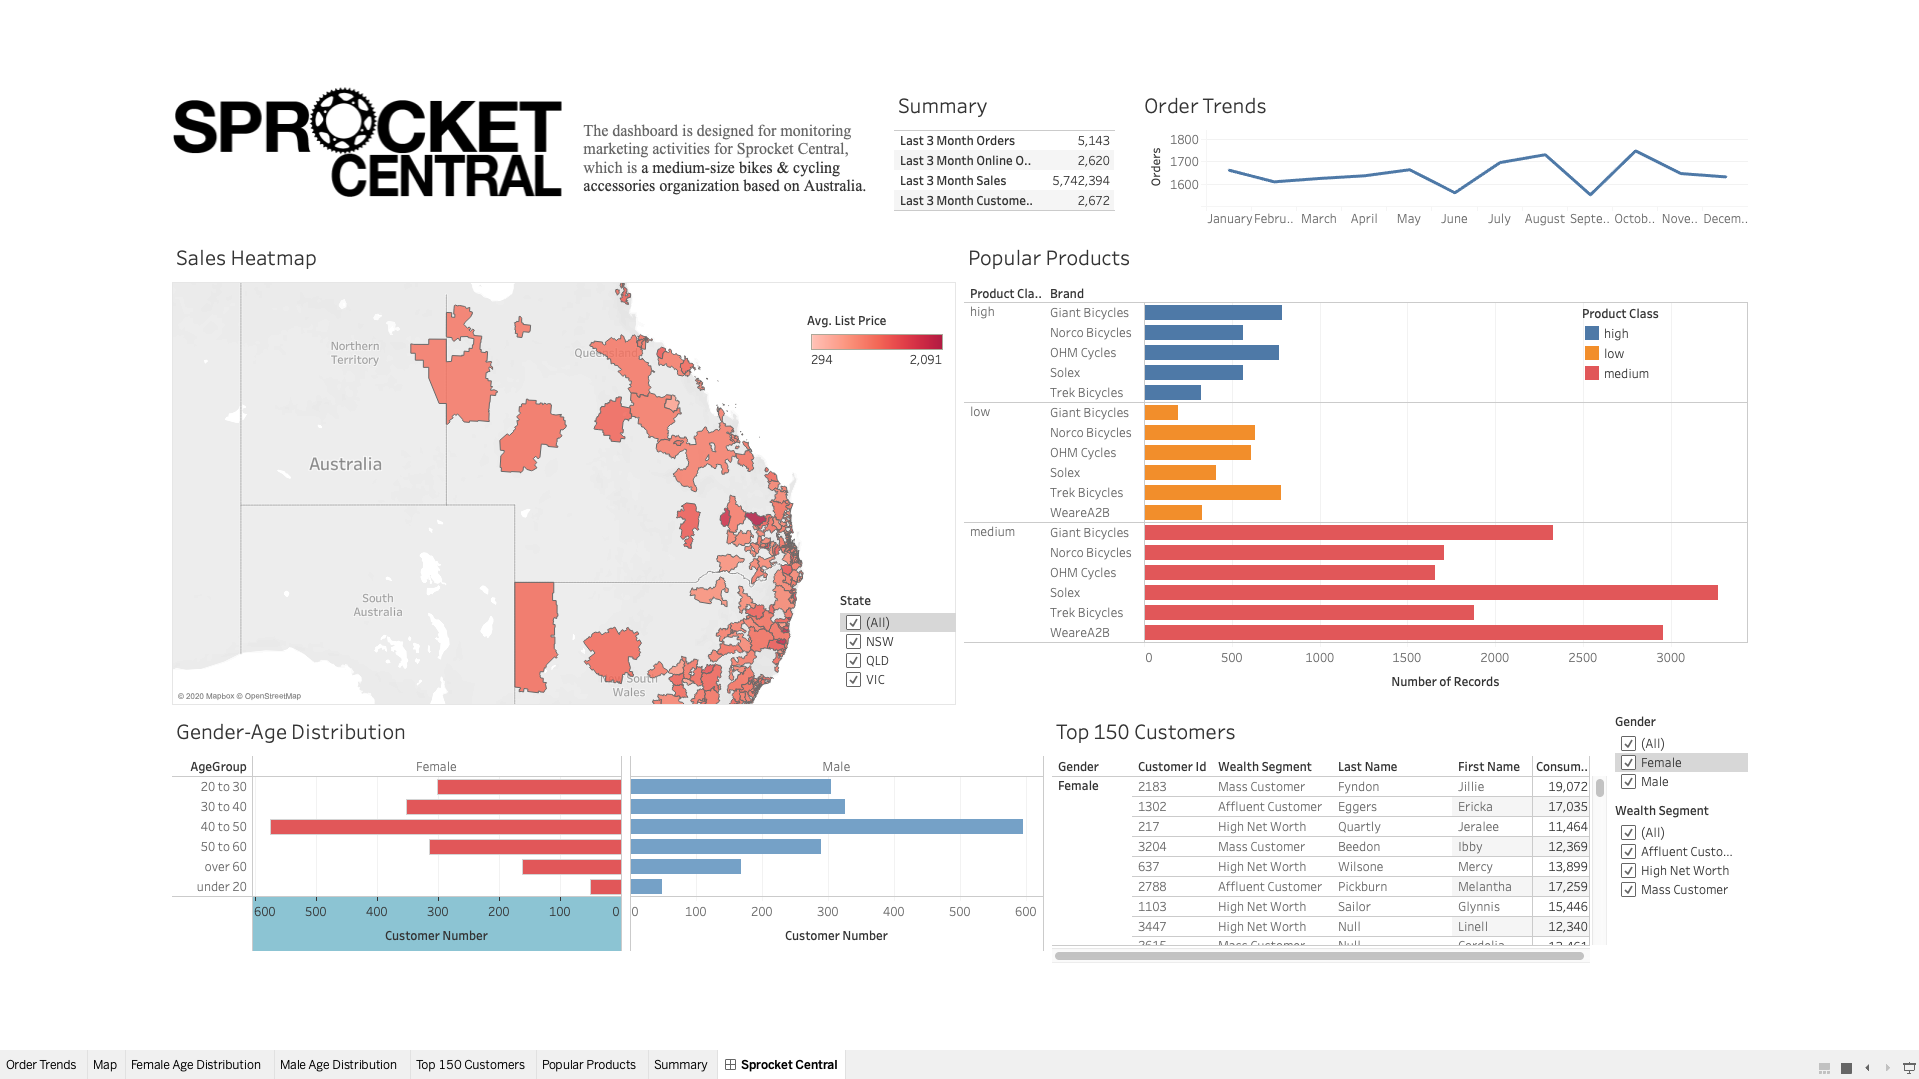

This screenshot's page, from the dashboard's own definition file:
{"tool":"tableau","page":{"name":"Sprocket Central","canvas":[1600,900],"ordinal":0},"visuals":[{"type":"worksheet","box":[0,0,1600,900]},{"type":"worksheet","param":"/Users/henanli/Desktop/KPMG_Project/Task3/sprocket_central_logo.png","box":[8,8,409,152]},{"type":"worksheet","box":[417,8,312.5,152]},{"type":"worksheet","title":"Summary","mark":"Automatic","box":[729.5,8,246.5,152]},{"type":"worksheet","title":"Order Trends","mark":"Automatic","rows":["Number of Records"],"cols":["transaction_date"],"box":[976,8,616,152]},{"type":"worksheet","param":"horz","box":[8,160,1584,732]},{"type":"worksheet","param":"horz","box":[8,160,1584,732]},{"type":"worksheet","param":"vert","box":[8,160,1584,732]},{"type":"worksheet","box":[8,160,1584,732]},{"type":"worksheet","title":"Map","mark":"Automatic","box":[8,160,792,474]},{"type":"worksheet","title":"Popular Products","mark":"Automatic","rows":["product_class","brand"],"cols":["Number of Records"],"box":[800,160,792,474]},{"type":"worksheet","title":"Popular Products","mark":"Automatic","rows":["product_class","brand"],"cols":["Number of Records"],"param":"[sqlproxy.052phnl0tmyywa1c4h66d16iv8km].[none:product_class:nk]","box":[1422,230,164,91]},{"type":"worksheet","title":"Map","mark":"Automatic","param":"[sqlproxy.052phnl0tmyywa1c4h66d16iv8km].[avg:list_price:qk]","box":[647,237,140,67]},{"type":"worksheet","title":"Map","mark":"Automatic","param":"[sqlproxy.052phnl0tmyywa1c4h66d16iv8km].[none:state:nk]","box":[680,517,116,108]},{"type":"worksheet","param":"horz","box":[8,634,458,258]},{"type":"worksheet","param":"horz","box":[8,634,458,258]},{"type":"worksheet","param":"horz","box":[8,634,458,258]},{"type":"worksheet","box":[8,634,458,258]},{"type":"worksheet","title":"Female Age Distribution","mark":"Automatic","rows":["age_group"],"cols":["gender","customer_id"],"box":[8,634,458,258]},{"type":"worksheet","title":"Male Age Distribution","mark":"Automatic","rows":["age_group"],"cols":["gender","customer_id"],"box":[466,634,422,258]},{"type":"worksheet","title":"Top 150 Customers","mark":"Text","rows":["gender","customer_id","wealth_segment","last_name","first_name"],"box":[888,634,563.2,258]},{"type":"worksheet","param":"vert","box":[1451.2,634,140.8,258]},{"type":"worksheet","title":"Top 150 Customers","mark":"Text","rows":["gender","customer_id","wealth_segment","last_name","first_name"],"param":"[sqlproxy.052phnl0tmyywa1c4h66d16iv8km].[none:gender:nk]","box":[1451.2,634,140.8,89]},{"type":"worksheet","title":"Top 150 Customers","mark":"Text","rows":["gender","customer_id","wealth_segment","last_name","first_name"],"param":"[sqlproxy.052phnl0tmyywa1c4h66d16iv8km].[none:wealth_segment:nk]","box":[1451.2,723,140.8,108]},{"type":"worksheet","title":"Order Trends","mark":"Automatic","rows":["Number of Records"],"cols":["transaction_date"],"param":"[sqlproxy.052phnl0tmyywa1c4h66d16iv8km].[none:state:nk]","box":[1451.2,831,140.8,22]}]}

Visuals, with their boxes on the page's 1600x900 design canvas (x1, y1, x2, y2). These are canvas units, not pixel positions in the 1919x1079 screenshot, which may show the page scaled, cropped or inside an application window:
worksheet: rect(0, 0, 1600, 900)
worksheet: rect(8, 8, 417, 160)
worksheet: rect(417, 8, 730, 160)
"Summary" worksheet: rect(730, 8, 976, 160)
"Order Trends" worksheet: rect(976, 8, 1592, 160)
worksheet: rect(8, 160, 1592, 892)
worksheet: rect(8, 160, 1592, 892)
worksheet: rect(8, 160, 1592, 892)
worksheet: rect(8, 160, 1592, 892)
"Map" worksheet: rect(8, 160, 800, 634)
"Popular Products" worksheet: rect(800, 160, 1592, 634)
"Popular Products" worksheet: rect(1422, 230, 1586, 321)
"Map" worksheet: rect(647, 237, 787, 304)
"Map" worksheet: rect(680, 517, 796, 625)
worksheet: rect(8, 634, 466, 892)
worksheet: rect(8, 634, 466, 892)
worksheet: rect(8, 634, 466, 892)
worksheet: rect(8, 634, 466, 892)
"Female Age Distribution" worksheet: rect(8, 634, 466, 892)
"Male Age Distribution" worksheet: rect(466, 634, 888, 892)
"Top 150 Customers" worksheet (Text marks): rect(888, 634, 1451, 892)
worksheet: rect(1451, 634, 1592, 892)
"Top 150 Customers" worksheet (Text marks): rect(1451, 634, 1592, 723)
"Top 150 Customers" worksheet (Text marks): rect(1451, 723, 1592, 831)
"Order Trends" worksheet: rect(1451, 831, 1592, 853)
